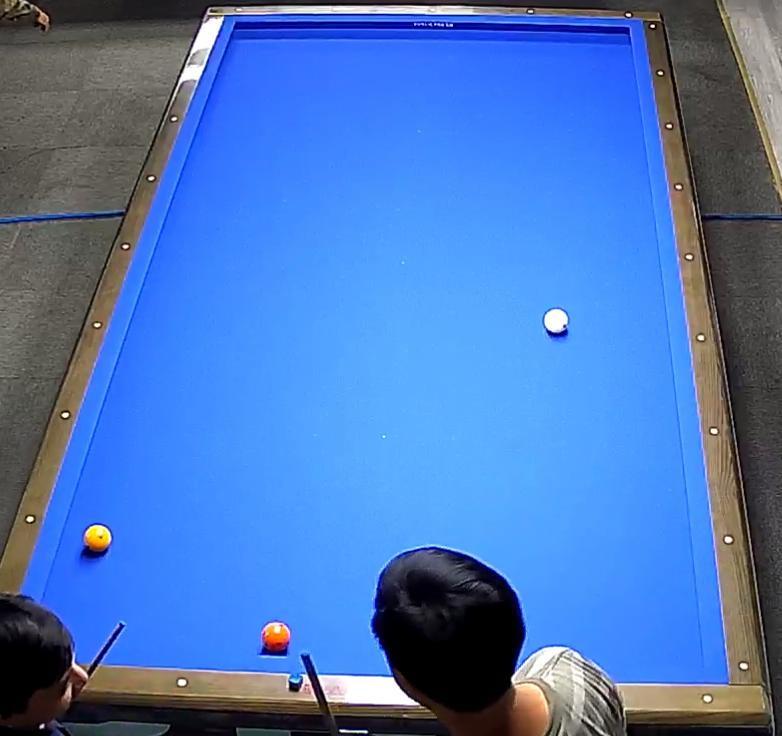orange ball: (255, 615, 298, 663)
white ball: (541, 305, 570, 343)
yellow ball: (77, 521, 117, 564)
